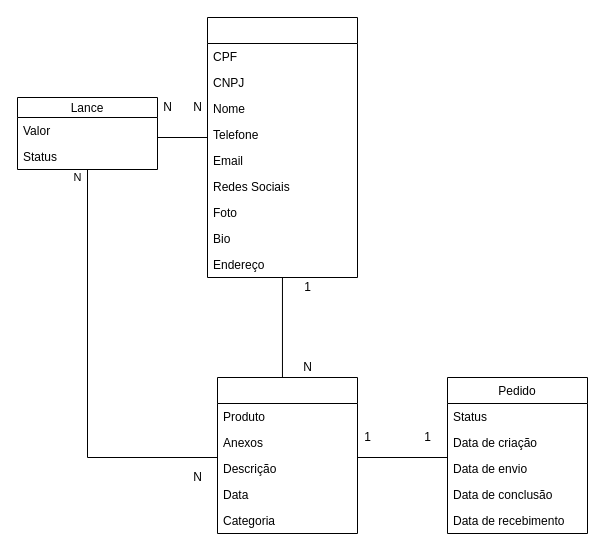
Some shapes in this 605 by 554 pixel diagram are drawn without their labels. Each missing label, with the box of its shape:
Solicitação de Reparo: (216, 376, 358, 534)
Usuário: (206, 16, 358, 278)
